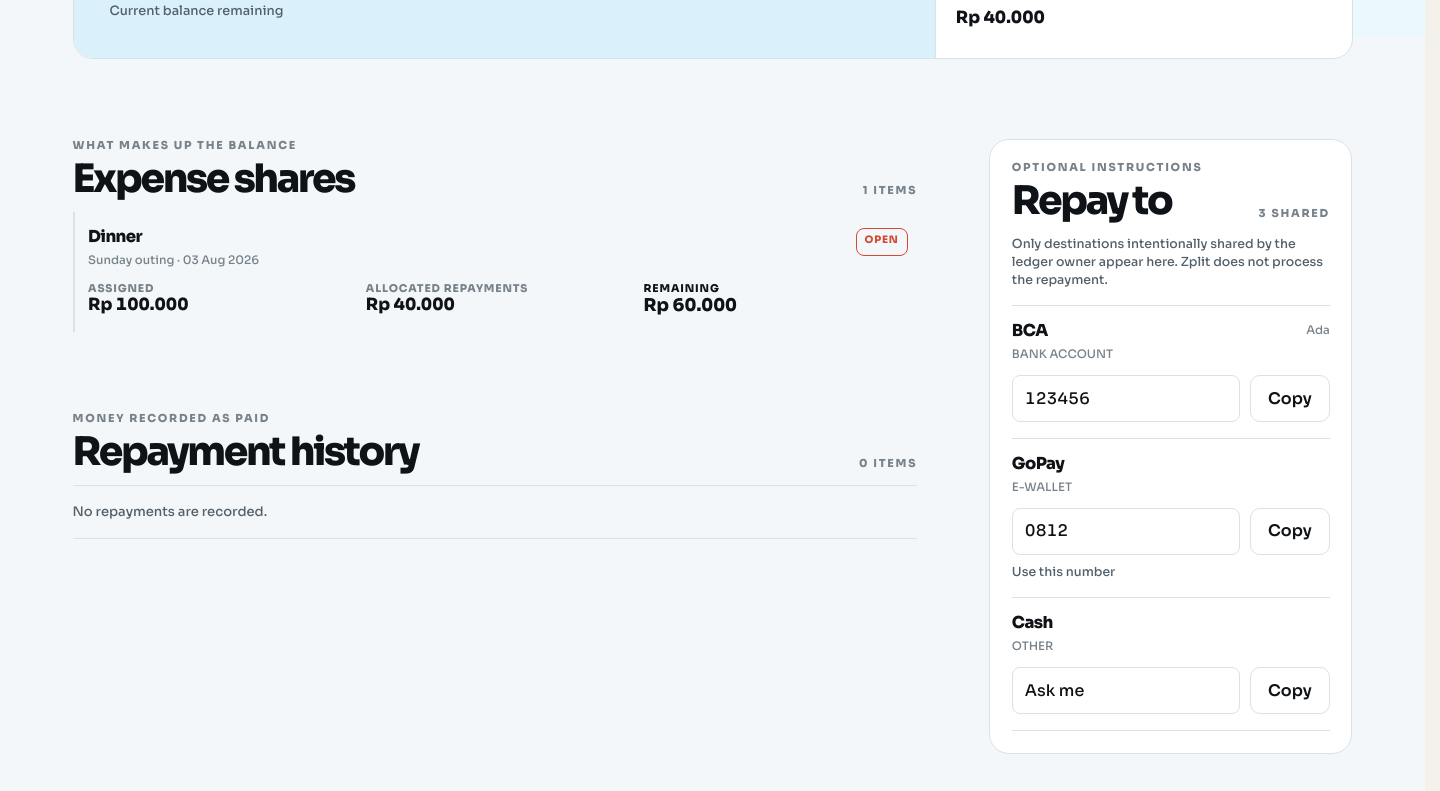
Test: DebtorStatementView › renders ordered shared destinations with adaptive type labels and copy feedback
(page scrolled)
Expected: the text "BANK ACCOUNT" is shown, 1012,346 -> 1113,362
Expected: the text "E-WALLET" is shown, 1012,479 -> 1072,495
Click the button with aria-label "Copy BCA repayment details". click: (1290, 398)
box: 1250,375 -> 1330,422
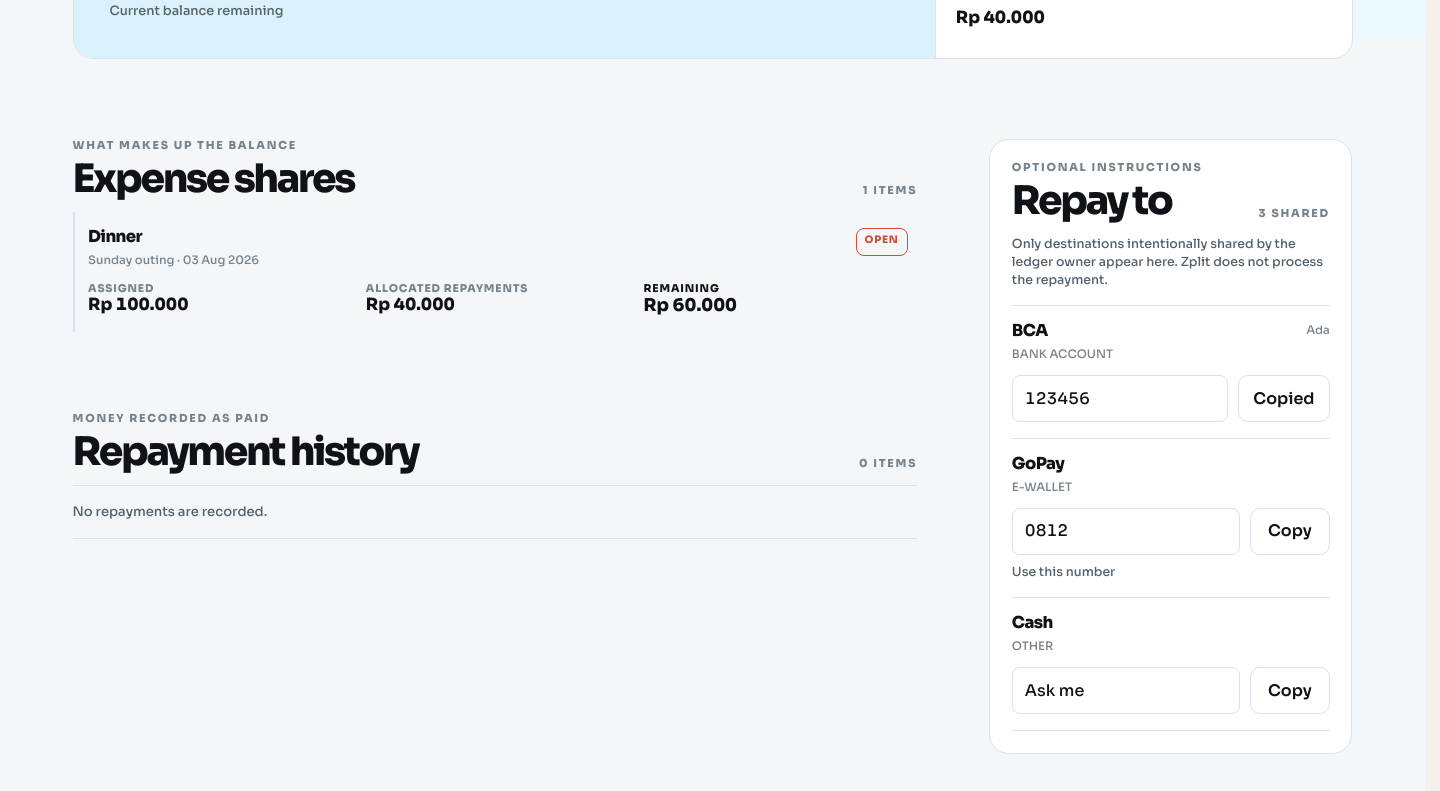
Expected: the button "Copied" is shown, 1238,375 -> 1330,422
